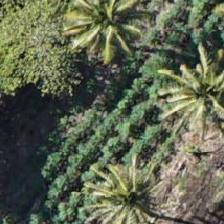coconut_tree: (86, 155, 176, 223), (42, 0, 132, 59), (169, 45, 223, 135)
